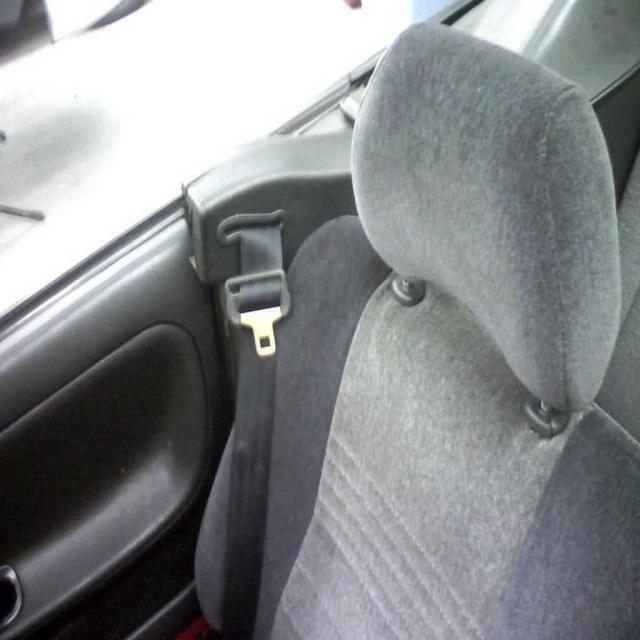seatbelt: (204, 200, 300, 587)
